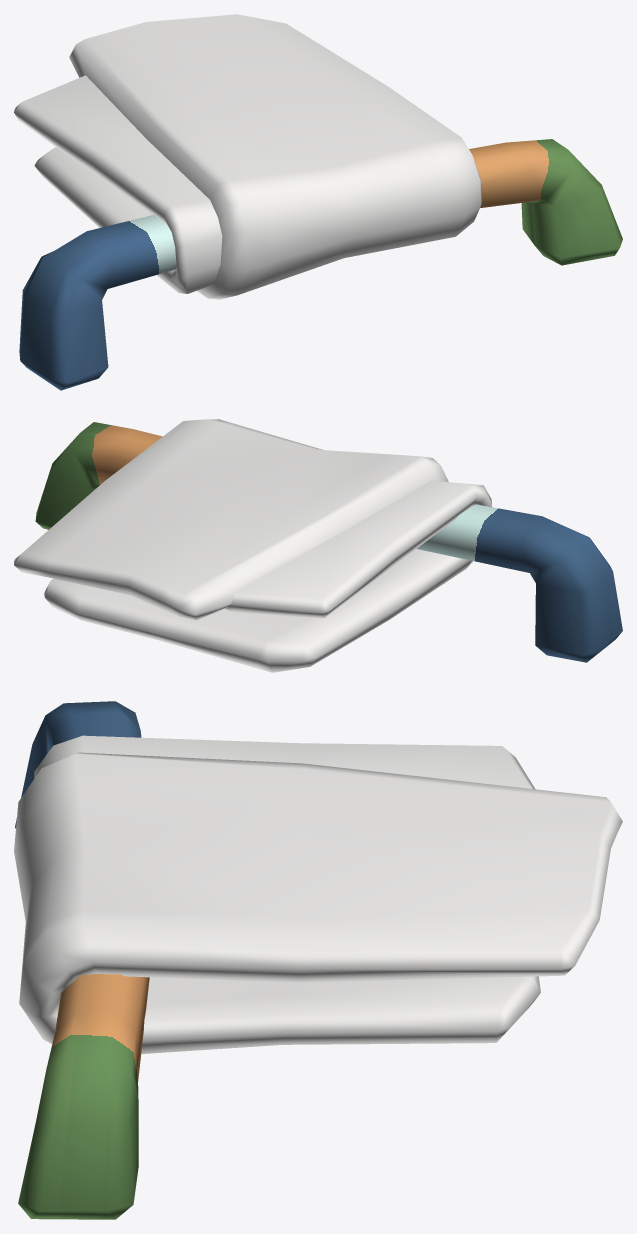
Rendered from P_StoneWallTowelRack.glb.
3 views of the same model, one above another, from view 1: azimuth 30°, elevation 25°; view 2: azimuth 150°, elevation 25°; view 3: azimuth 270°, elevation 25° (orthographic). The views are drawn at different scales.
Parts seen in each view (by area): view 1: P_StoneWallTowelRack; view 2: P_StoneWallTowelRack; view 3: P_StoneWallTowelRack.
Part boxes in pixels (x1=…): P_StoneWallTowelRack: x1=14, y1=14, x2=622, y2=390; P_StoneWallTowelRack: x1=14, y1=419, x2=622, y2=672; P_StoneWallTowelRack: x1=14, y1=701, x2=622, y2=1219.
Size of the model in its own units: 0.9978 by 0.2535 by 0.6546.
Materials: 1 (1 with a texture image).
